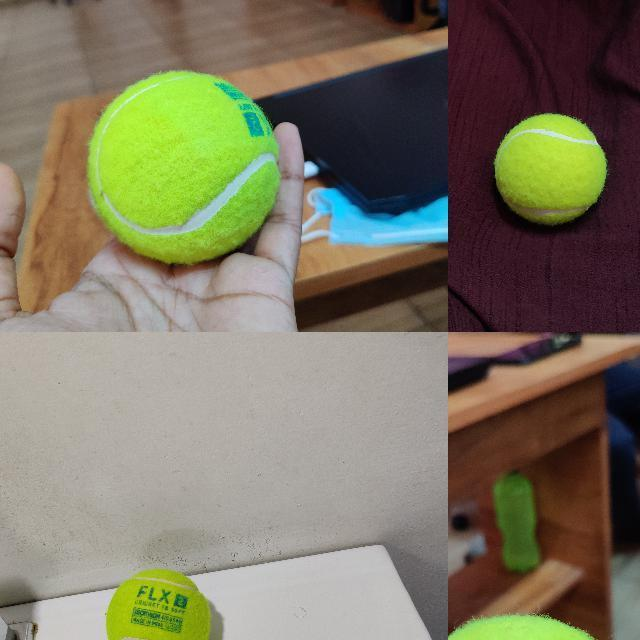tennis-ball: (88, 71, 278, 262), (494, 114, 606, 223), (104, 568, 211, 639)
